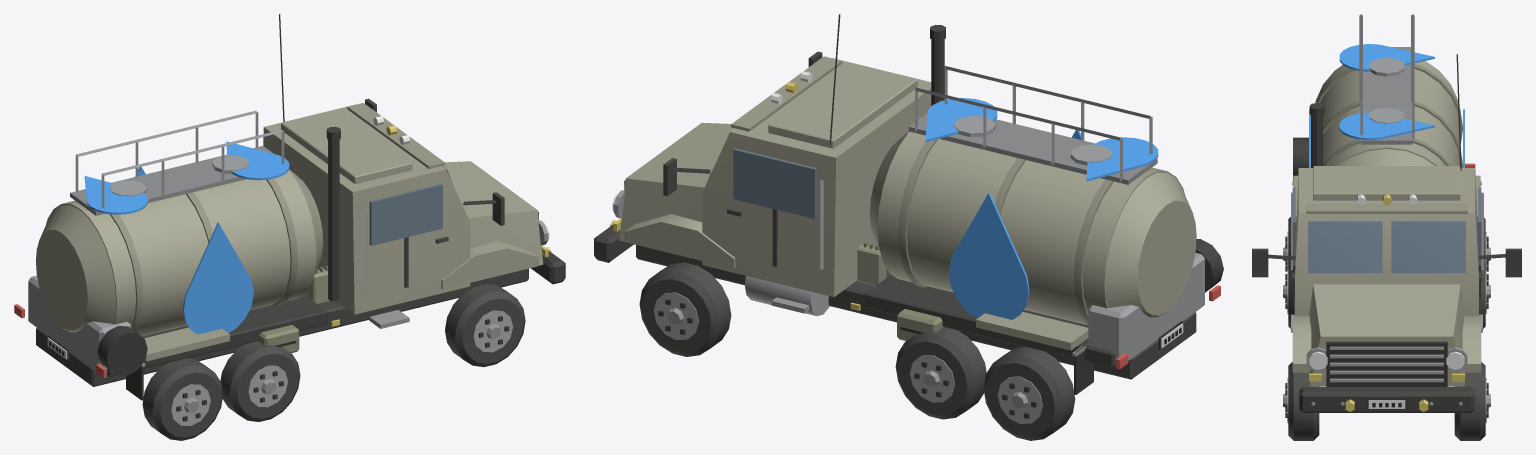
The model's file is watertruck.glb.
3 renders of one model, left to right at view 1: azimuth 30°, elevation 25°; view 2: azimuth 150°, elevation 25°; view 3: azimuth 270°, elevation 25°, orthographic. The views are drawn at different scales.
Parts seen in each view (by area): view 1: hull; view 2: hull; view 3: hull.
Part boxes in pixels (bbox=[...]): hull: bbox=[14, 14, 565, 440]; hull: bbox=[594, 14, 1223, 440]; hull: bbox=[1252, 14, 1521, 440].
Size of the model in its own units: 7.37 by 4.79 by 3.66.
